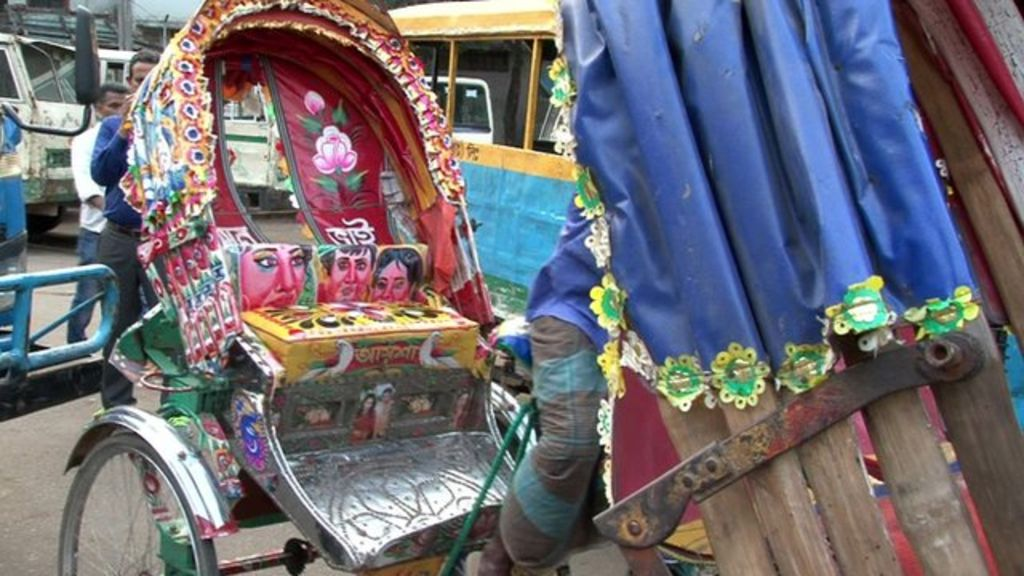Rickshaw: (94, 7, 570, 573), (542, 4, 1022, 552)
